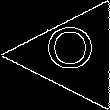O_S: (49, 30, 98, 80)
